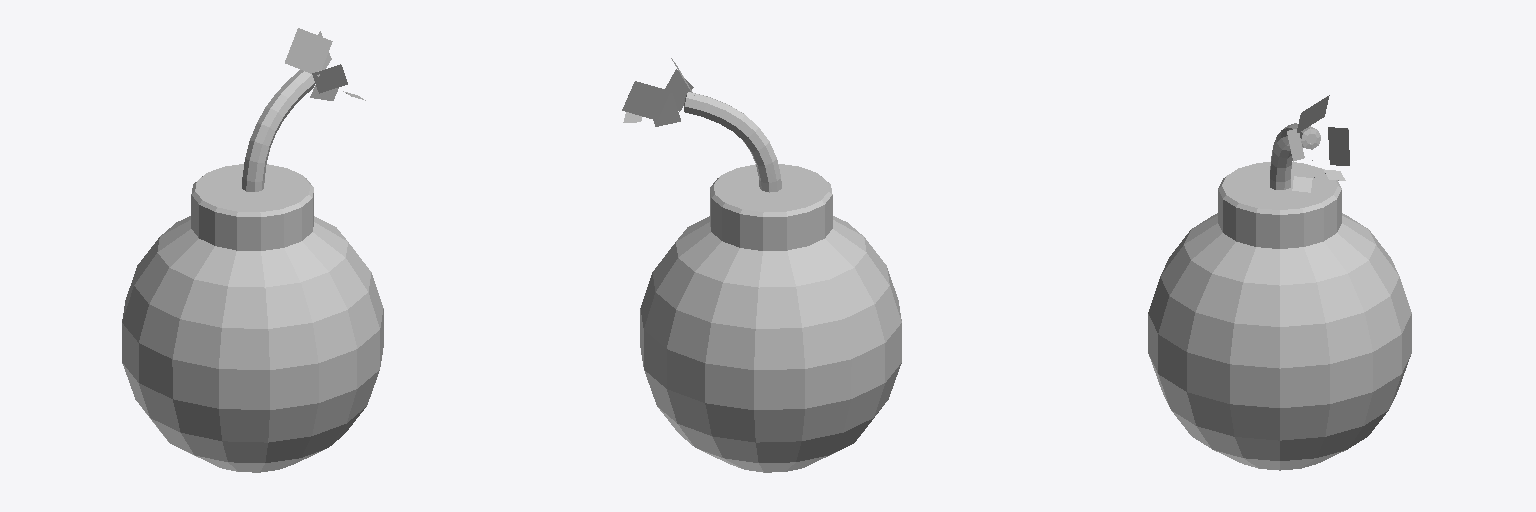
The model's file is bomb_000024.obj.
The picture shows the model from 3 angles: view 1: azimuth 30°, elevation 25°; view 2: azimuth 150°, elevation 25°; view 3: azimuth 270°, elevation 25°; orthographic projection.
Parts seen in each view (by area): view 1: Sphere, NurbsPath, Plane_5.001_Mesh.001; view 2: Sphere, NurbsPath, Plane_5.001_Mesh.001; view 3: Sphere, Plane_5.001_Mesh.001, NurbsPath.
Part boxes in pixels (bbox=[...]): Sphere: bbox=[122, 164, 383, 472]; NurbsPath: bbox=[242, 70, 315, 191]; Plane_5.001_Mesh.001: bbox=[285, 28, 365, 100]; Sphere: bbox=[640, 164, 901, 472]; NurbsPath: bbox=[684, 92, 781, 192]; Plane_5.001_Mesh.001: bbox=[622, 58, 694, 126]; Sphere: bbox=[1148, 162, 1411, 470]; Plane_5.001_Mesh.001: bbox=[1287, 95, 1349, 192]; NurbsPath: bbox=[1270, 123, 1320, 189].
Size of the model in its own units: 0.8385 by 1.32 by 0.8157.